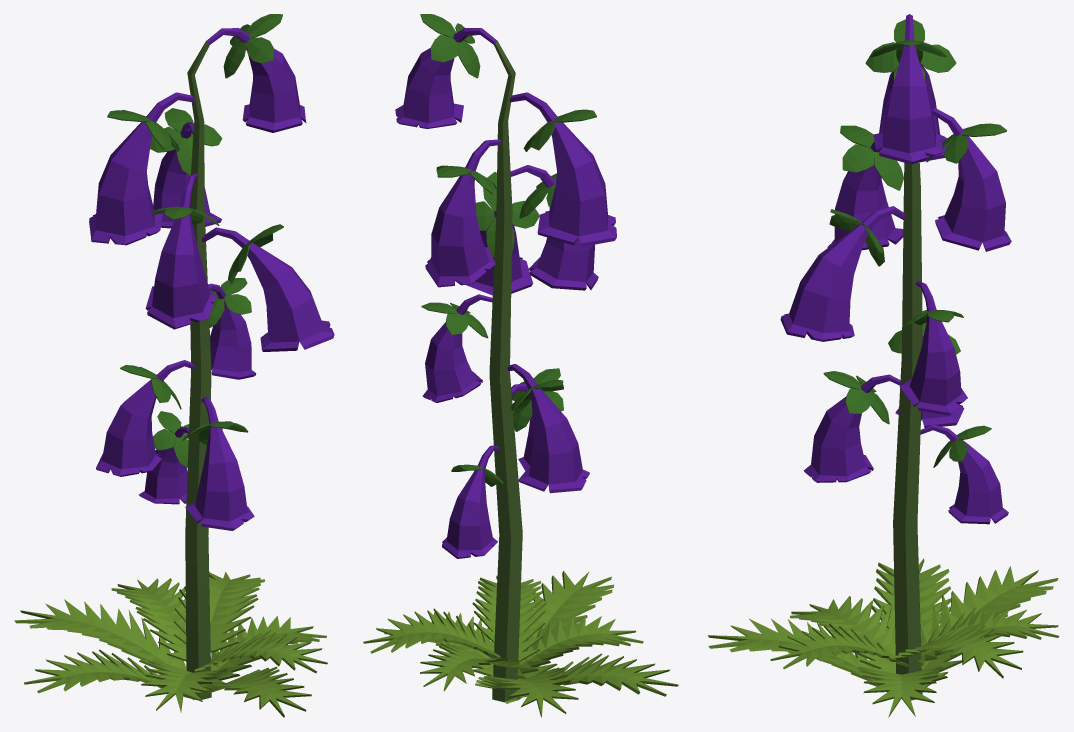
File: Eisenhut_3.fbx
3 renders of one model, left to right at view 1: azimuth 30°, elevation 25°; view 2: azimuth 150°, elevation 25°; view 3: azimuth 270°, elevation 25°, orthographic. The views are drawn at different scales.
Visible parts, largest first — view 1: Eisenhut_3; view 2: Eisenhut_3; view 3: Eisenhut_3.
Part boxes in pixels (x1=…): Eisenhut_3: x1=14, y1=14, x2=334, y2=717; Eisenhut_3: x1=363, y1=14, x2=678, y2=717; Eisenhut_3: x1=708, y1=14, x2=1059, y2=717.
Bounding box in the file's own units: 93.2 × 205 × 94.46.
